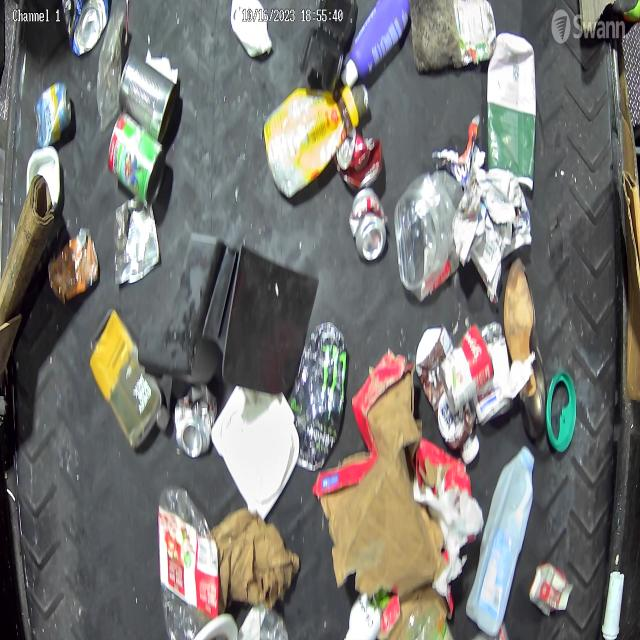can: (292, 322, 347, 472), (108, 110, 164, 202), (440, 322, 494, 416), (118, 57, 178, 139), (113, 197, 159, 285), (47, 228, 99, 302), (175, 384, 217, 457), (336, 126, 383, 190), (349, 188, 388, 262), (35, 83, 72, 147), (70, 0, 110, 56)
milk_jug: (466, 446, 536, 634)
non_white_jug: (264, 85, 369, 198), (89, 313, 170, 449), (487, 33, 537, 190), (454, 0, 496, 67)
plastic_bottle: (158, 485, 218, 640), (394, 168, 462, 302)
